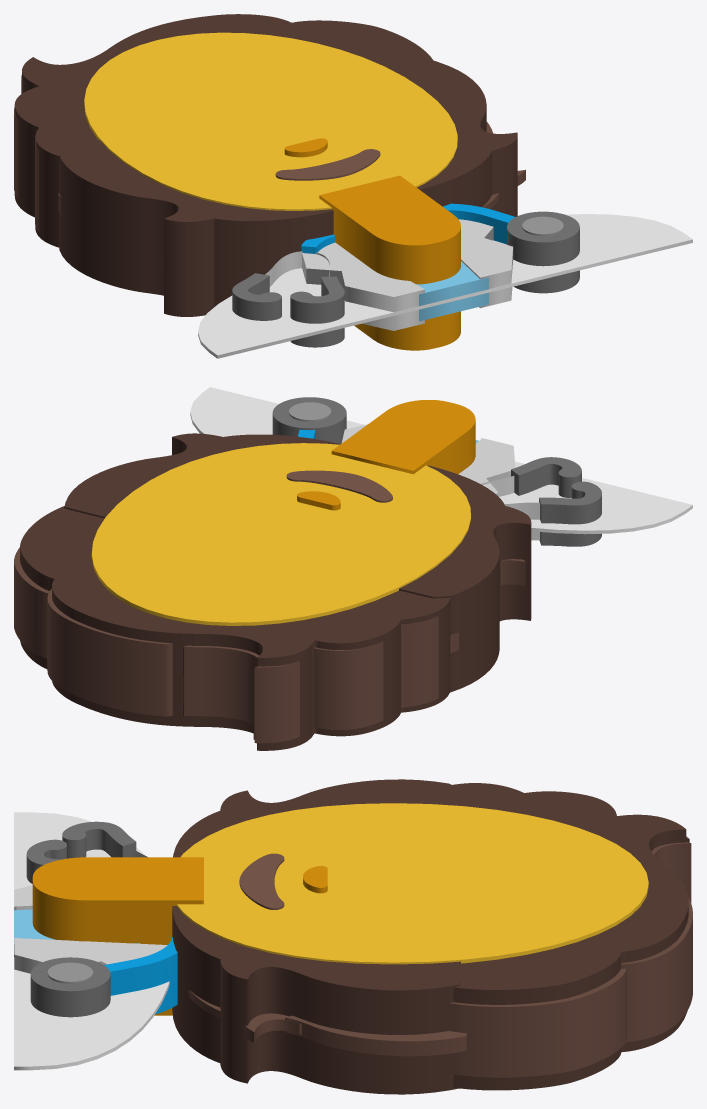
File: emoji_u1f9d1_200d_2695.glb
The picture shows the model from 3 angles, top to bottom: view 1: azimuth 30°, elevation 25°; view 2: azimuth 150°, elevation 25°; view 3: azimuth 270°, elevation 25°; orthographic projection. The views are drawn at different scales.
Parts seen in each view (by area): view 1: emoji_u1f9d1_200d_2695; view 2: emoji_u1f9d1_200d_2695; view 3: emoji_u1f9d1_200d_2695.
Part boxes in pixels (x1=…): emoji_u1f9d1_200d_2695: x1=14, y1=14, x2=692, y2=358; emoji_u1f9d1_200d_2695: x1=14, y1=387, x2=692, y2=750; emoji_u1f9d1_200d_2695: x1=14, y1=779, x2=692, y2=1094.
Bounding box in the file's own units: 0.0293 × 0.0064 × 0.0331.
